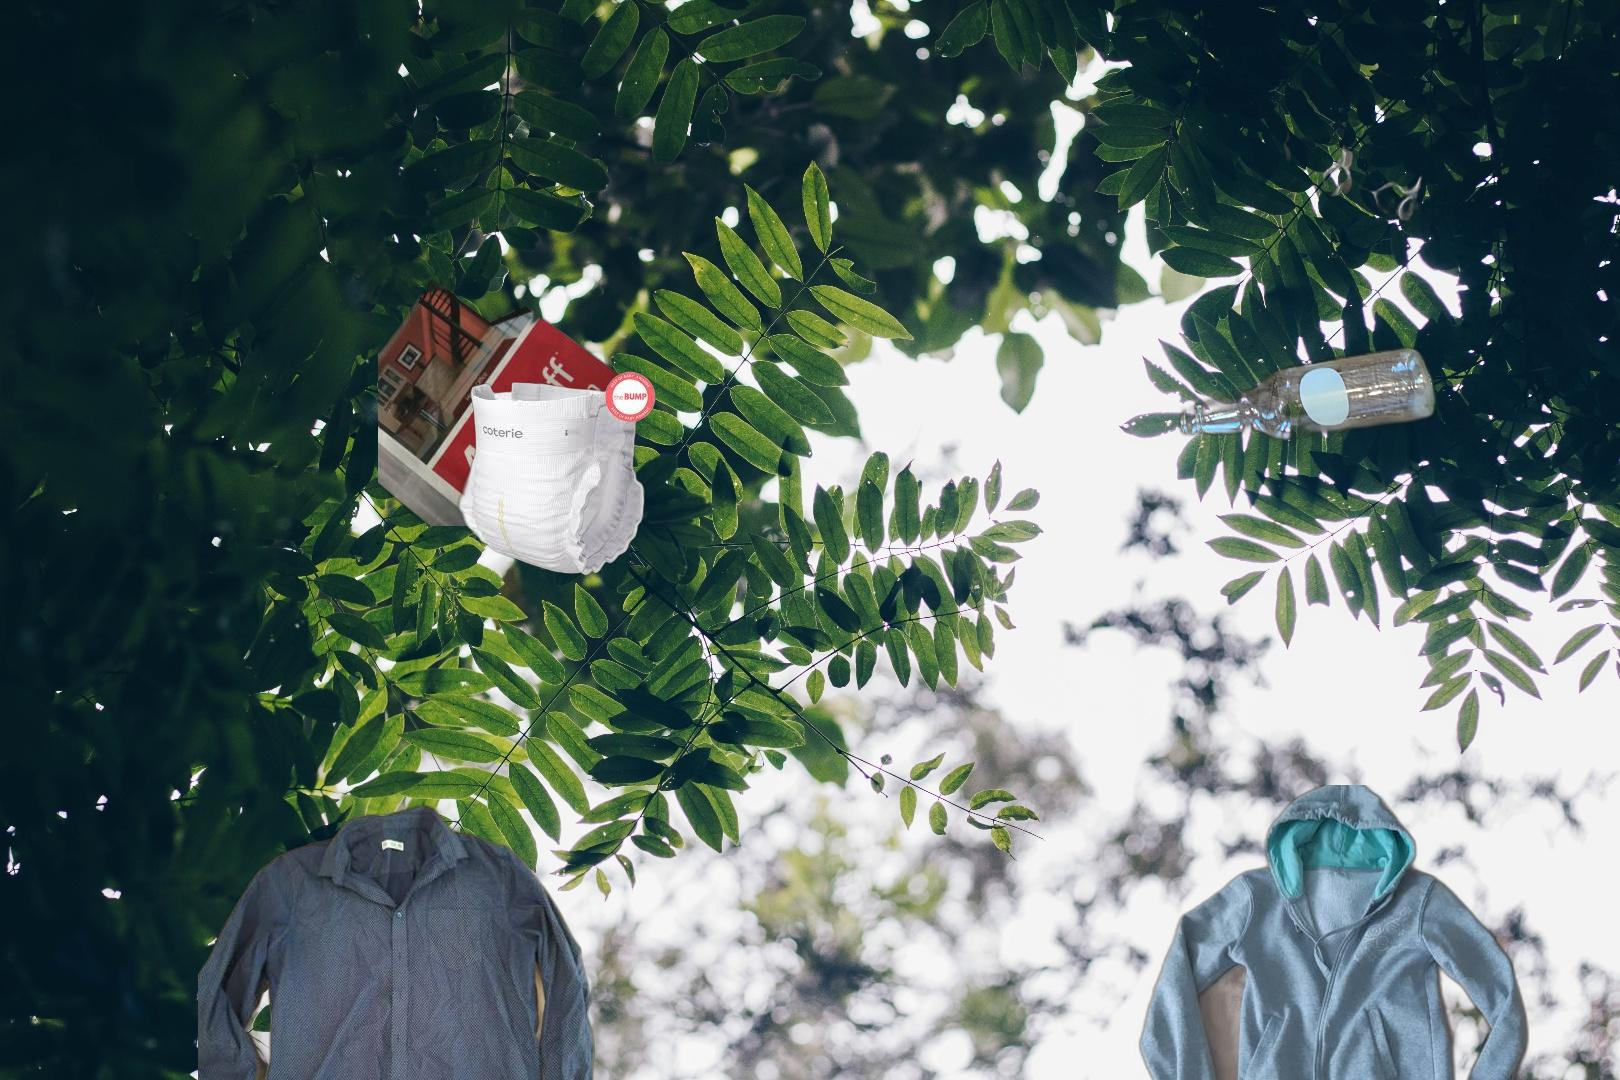clothes: (1133, 785, 1533, 1080), (198, 802, 598, 1080)
glass: (1175, 339, 1440, 446)
paper: (378, 202, 890, 526), (1268, 118, 1432, 224)
trash: (453, 369, 658, 579)
